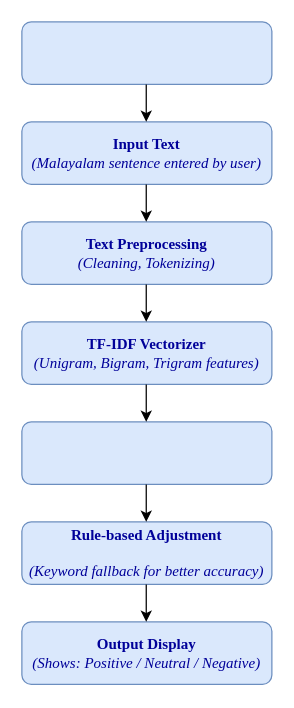
The diagram is 294 pixels wide and 708 high, and some of its shapes have lost their labels. The shapes that lost their labels are listed below. From the top down, each one's box as (x1, y1, x2, y2) in pixels, then its label:
(21, 21, 272, 84): User Interface (Flask Web Interface)
(21, 421, 272, 484): Naive Bayes Classifier (Predicts sentiment)
